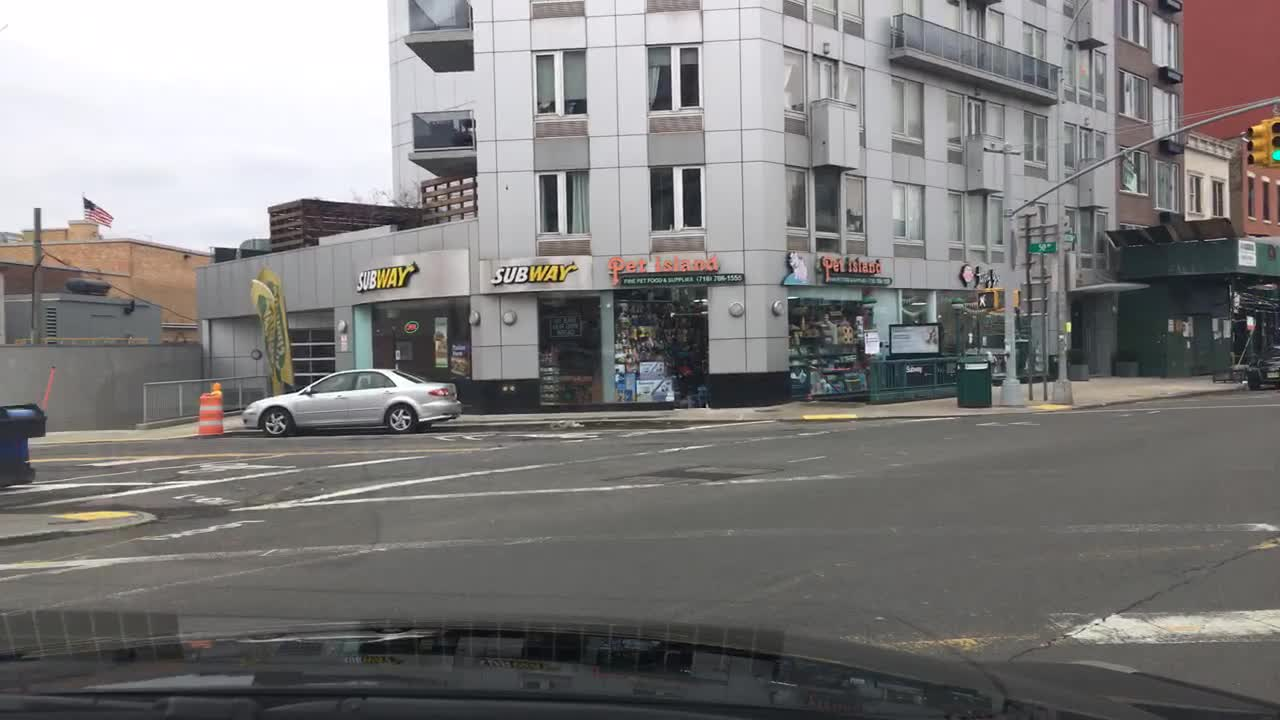car: (244, 369, 459, 434), (1246, 345, 1277, 386)
traffic light: (1245, 123, 1266, 163), (975, 288, 998, 308), (1269, 118, 1278, 163), (1012, 288, 1021, 306)
traffic sign: (1027, 240, 1058, 254)
